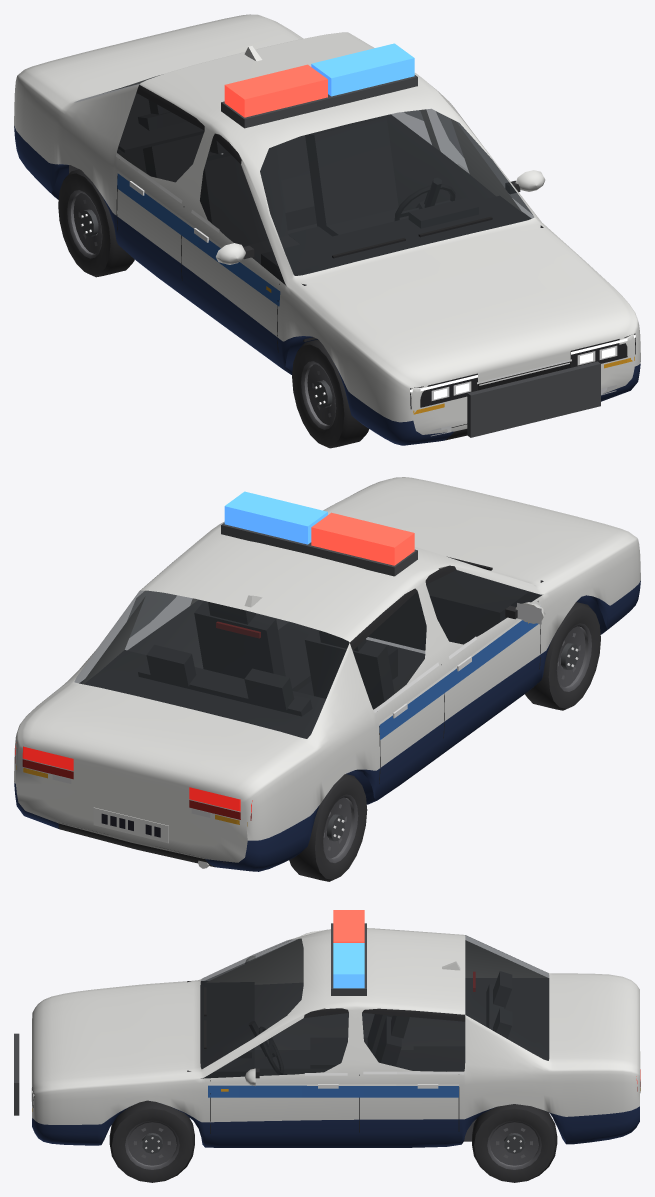
Rendered from police.glb.
3 renders of one model, top to bottom at view 1: azimuth 30°, elevation 25°; view 2: azimuth 150°, elevation 25°; view 3: azimuth 270°, elevation 25°, orthographic. The views are drawn at different scales.
Parts seen in each view (by area): view 1: police_body, Wheel_FR, Wheel_RR, Siren_0, Siren_1; view 2: police_body, Wheel_RR, Wheel_FR, Siren_0, Siren_1; view 3: police_body, Wheel_FL, Wheel_RL, Siren_1, Siren_0.
Part boxes in pixels (x1=…): police_body: x1=14, y1=14, x2=640, y2=445; Wheel_FR: x1=292, y1=339, x2=368, y2=448; Wheel_RR: x1=58, y1=169, x2=134, y2=277; Siren_0: x1=224, y1=64, x2=327, y2=117; Siren_1: x1=311, y1=43, x2=414, y2=96; police_body: x1=14, y1=477, x2=640, y2=871; Wheel_RR: x1=289, y1=774, x2=367, y2=881; Wheel_FR: x1=525, y1=602, x2=600, y2=710; Siren_0: x1=311, y1=512, x2=414, y2=565; Siren_1: x1=224, y1=491, x2=327, y2=544; police_body: x1=14, y1=923, x2=640, y2=1147; Wheel_FL: x1=109, y1=1100, x2=194, y2=1182; Wheel_RL: x1=472, y1=1104, x2=557, y2=1182; Siren_1: x1=333, y1=943, x2=364, y2=988; Siren_0: x1=333, y1=910, x2=364, y2=942.
Bounding box in the file's own units: 0.1135 × 0.0825 × 0.2424.
8 materials, 1 textured.
